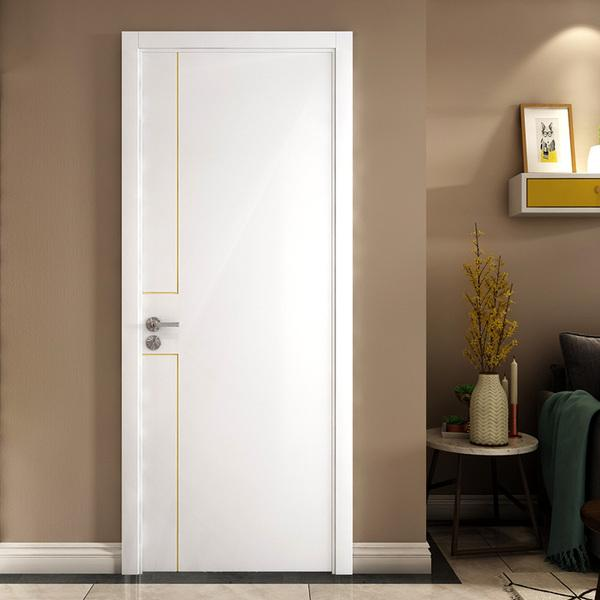door: (143, 49, 332, 572)
